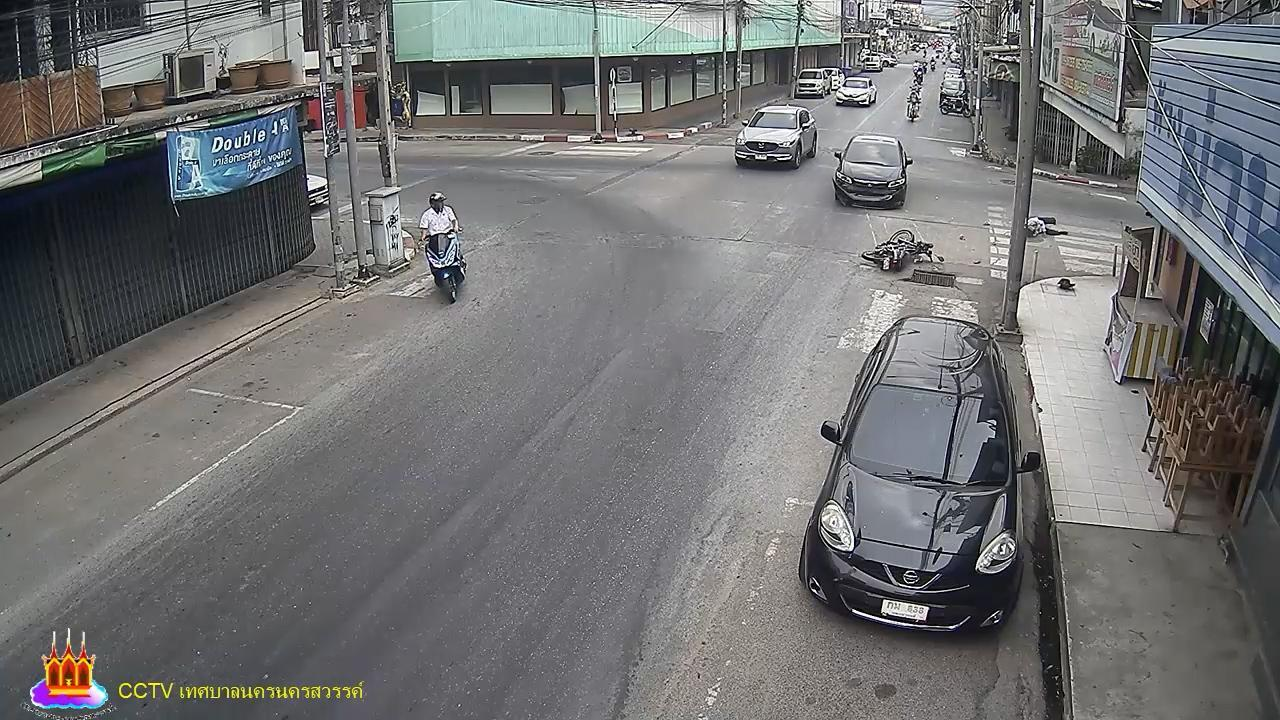accident: (1023, 210, 1071, 242)
